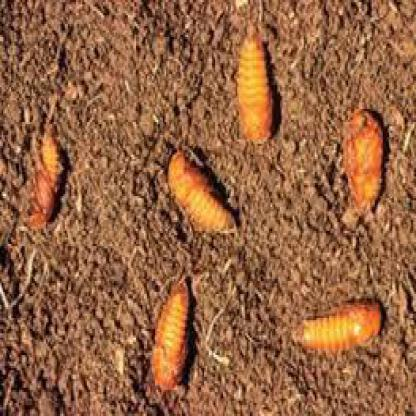root grubs: (164, 147, 239, 237), (149, 280, 190, 392), (240, 31, 272, 147)
